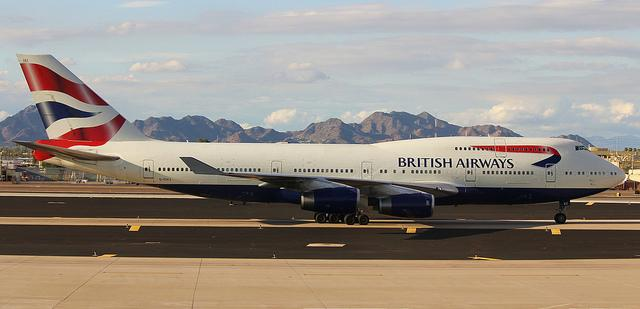airplane: (12, 52, 627, 226)
